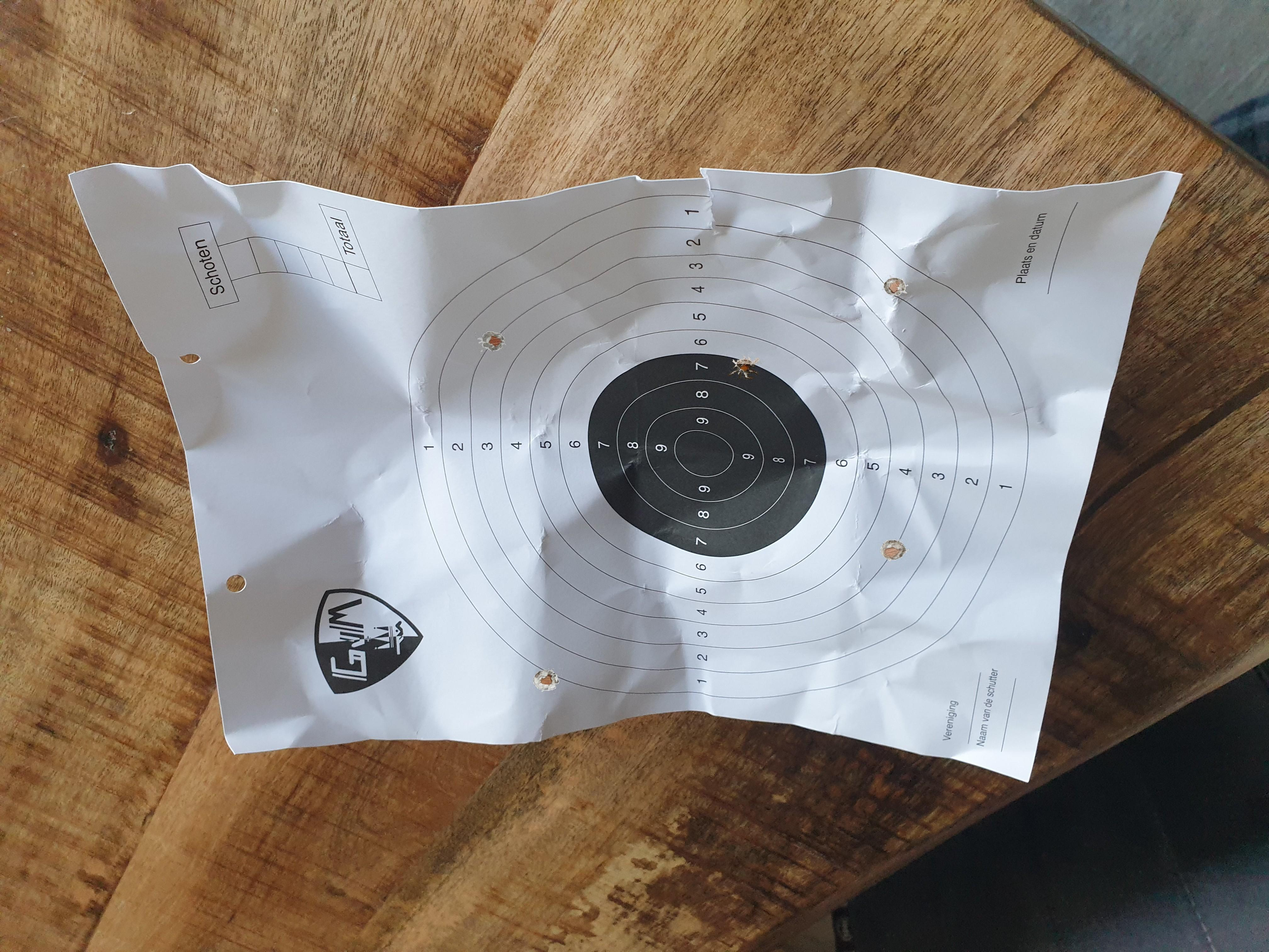hole: (729, 358, 761, 379), (532, 669, 559, 691), (881, 539, 907, 561), (478, 331, 506, 351), (883, 276, 907, 296)
